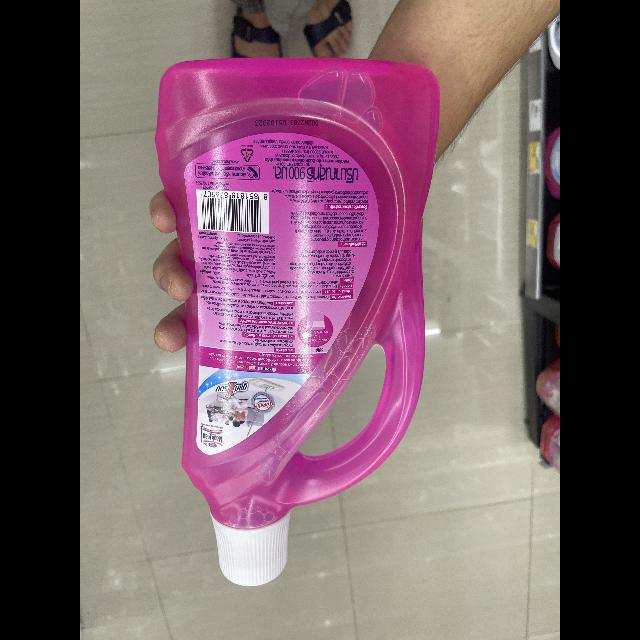chemical_plastic_gallon: (154, 49, 448, 596)
